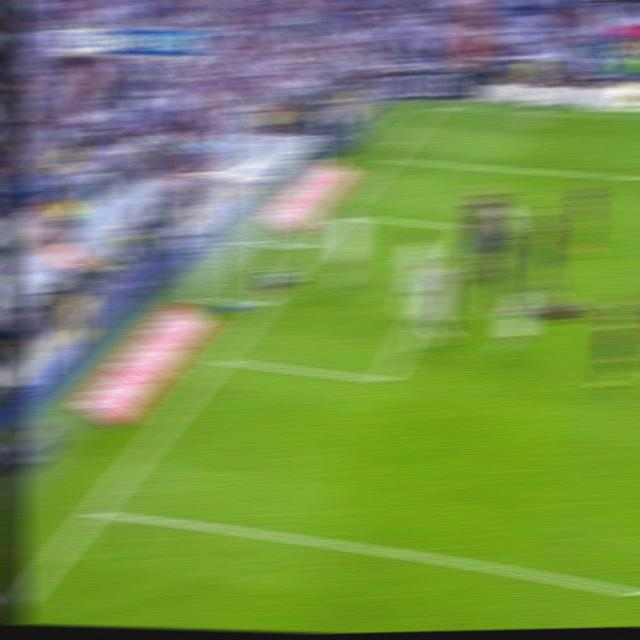bigarea_bottom_inner: (371, 363, 396, 393)
bottom_arc_area_intersection: (80, 495, 108, 526)
corner: (422, 99, 445, 114)
smallarea_bottom_outter: (207, 345, 231, 371)
smallarea_top_inner: (455, 218, 476, 238)
